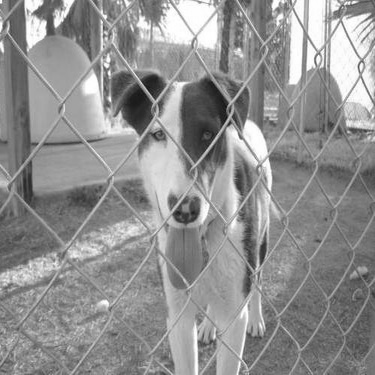dog: (100, 67, 275, 373)
